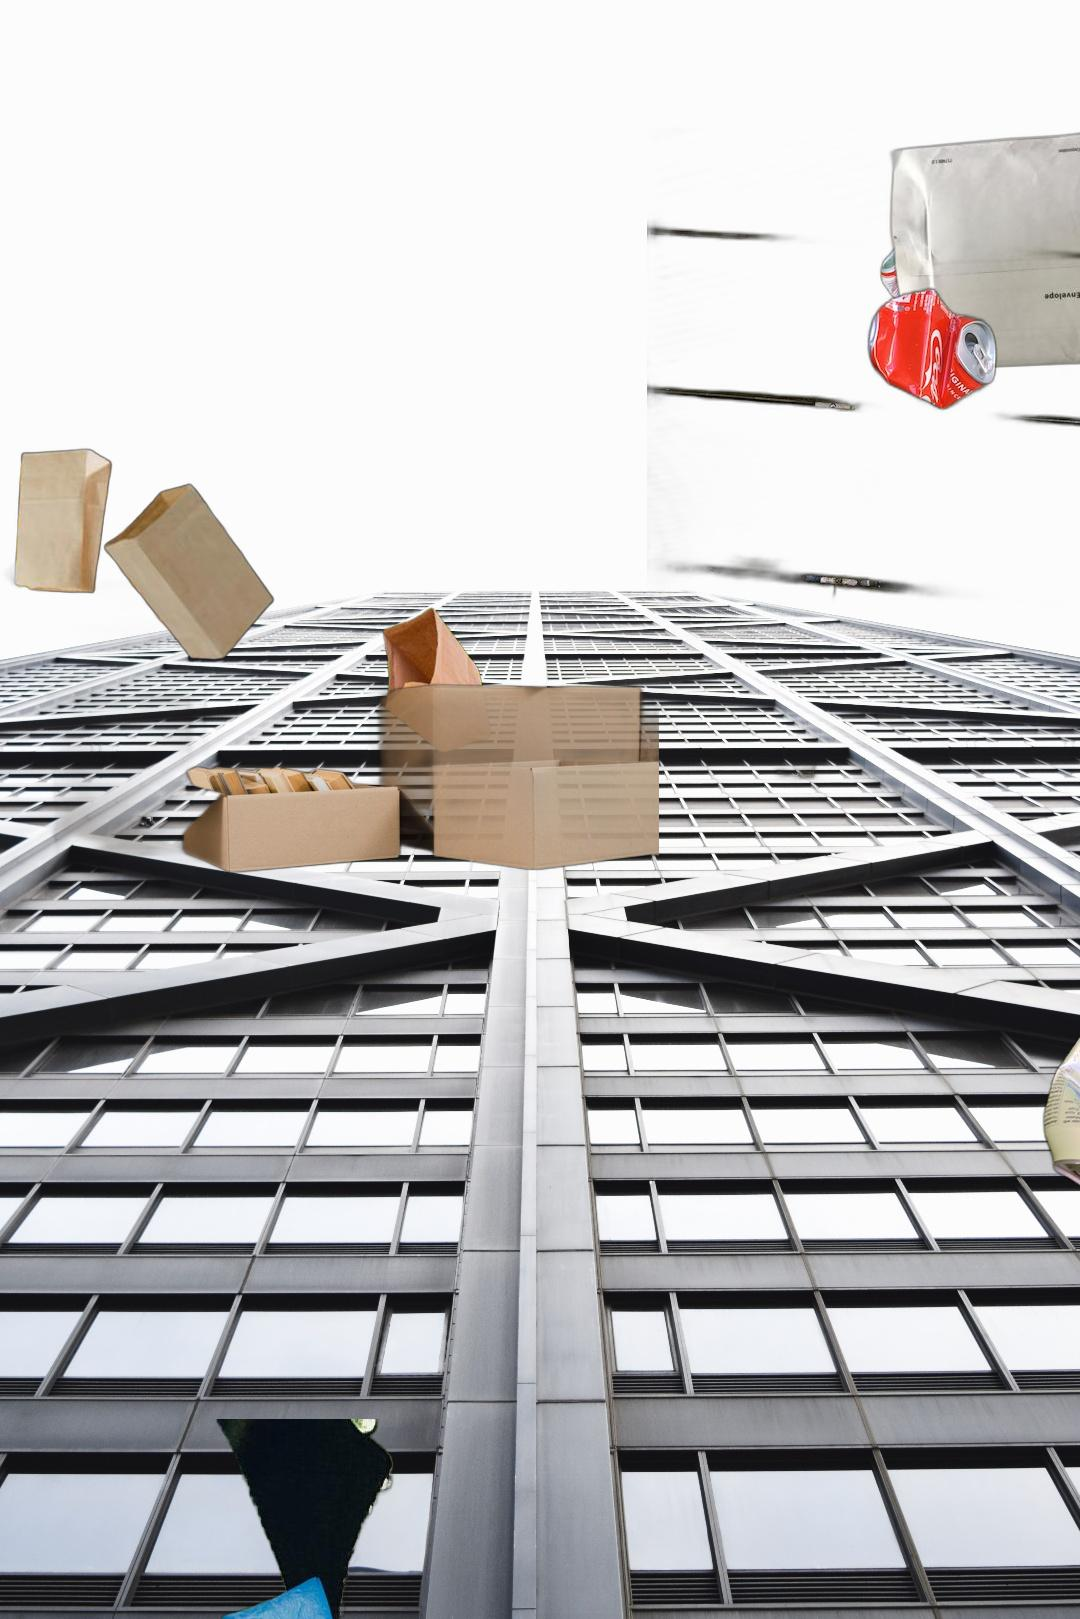metal-cans: (647, 127, 1080, 810), (876, 234, 1080, 555), (1038, 1017, 1080, 1220)
paper: (887, 110, 1080, 374)
paper-bag: (1, 446, 275, 663), (380, 605, 494, 773)
plastic-bag: (213, 1419, 397, 1619)
trashbox-cardboard: (33, 577, 659, 876)
